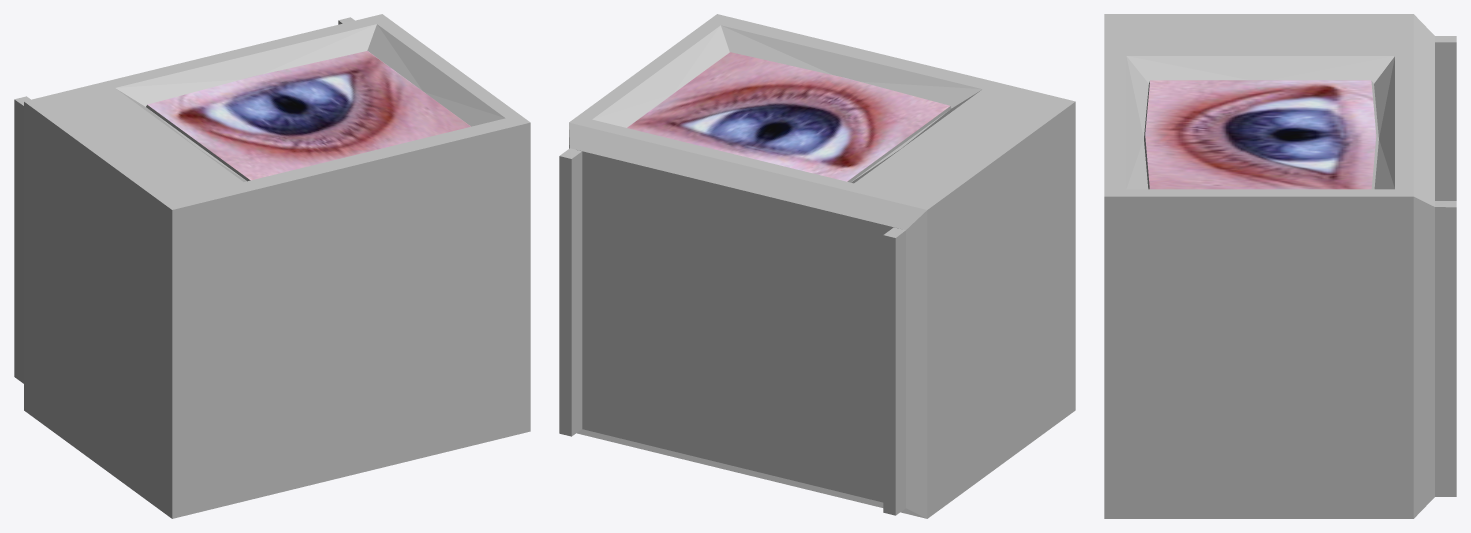
File: TV70_wtf.obj
3 views of the same model, side by side, from view 1: azimuth 30°, elevation 25°; view 2: azimuth 150°, elevation 25°; view 3: azimuth 270°, elevation 25° (orthographic). The views are drawn at different scales.
Parts seen in each view (by area): view 1: group3, group2; view 2: group3, group2; view 3: group3, group2.
Part boxes in pixels (box(x1,y1,x2,y2)): group3: box(14, 14, 530, 518); group2: box(147, 51, 470, 180); group3: box(559, 14, 1075, 518); group2: box(627, 52, 949, 181); group3: box(1104, 14, 1456, 518); group2: box(1145, 80, 1376, 189).
Bounding box in the file's own units: 660 × 543 × 539.
